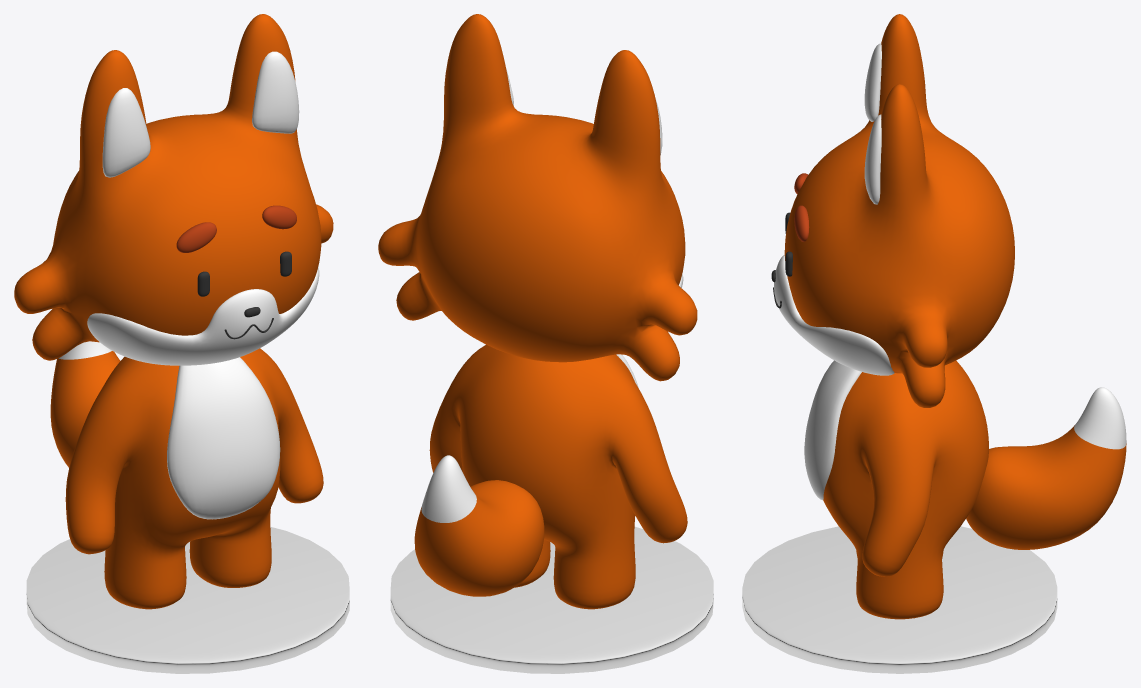
Rendered from fox.fbx.
The picture shows the model from 3 angles, left to right: view 1: azimuth 30°, elevation 25°; view 2: azimuth 150°, elevation 25°; view 3: azimuth 270°, elevation 25°; orthographic projection. The views are drawn at different scales.
Visible parts, largest first — view 1: Cube, Cube.001, Cylinder, Cube.004, Cube.002, Cube.003, Cube.008, Cube.006, Cube.005; view 2: Cube, Cube.001, Cylinder, Cube.008; view 3: Cube, Cylinder, Cube.001, Cube.008, Cube.004, Cube.002, Cube.003, Cube.006.
Part boxes in pixels (x1,y1,x2,y2): Cube: (14, 14, 333, 360); Cube.001: (65, 348, 323, 609); Cylinder: (26, 527, 349, 673); Cube.004: (167, 357, 280, 519); Cube.002: (87, 267, 319, 365); Cube.003: (102, 51, 299, 177); Cube.008: (50, 341, 120, 467); Cube.006: (176, 205, 296, 252); Cube.005: (197, 251, 291, 296); Cube: (378, 14, 697, 381); Cube.001: (429, 344, 687, 609); Cylinder: (390, 526, 713, 673); Cube.008: (414, 455, 544, 596); Cube: (784, 14, 1014, 407); Cylinder: (742, 526, 1057, 673); Cube.001: (823, 360, 988, 619); Cube.008: (966, 387, 1126, 549); Cube.004: (804, 360, 861, 500); Cube.002: (774, 255, 894, 375); Cube.003: (864, 43, 881, 204); Cube.006: (794, 173, 809, 241).
Bounding box in the file's own units: 250 × 437 × 273.
